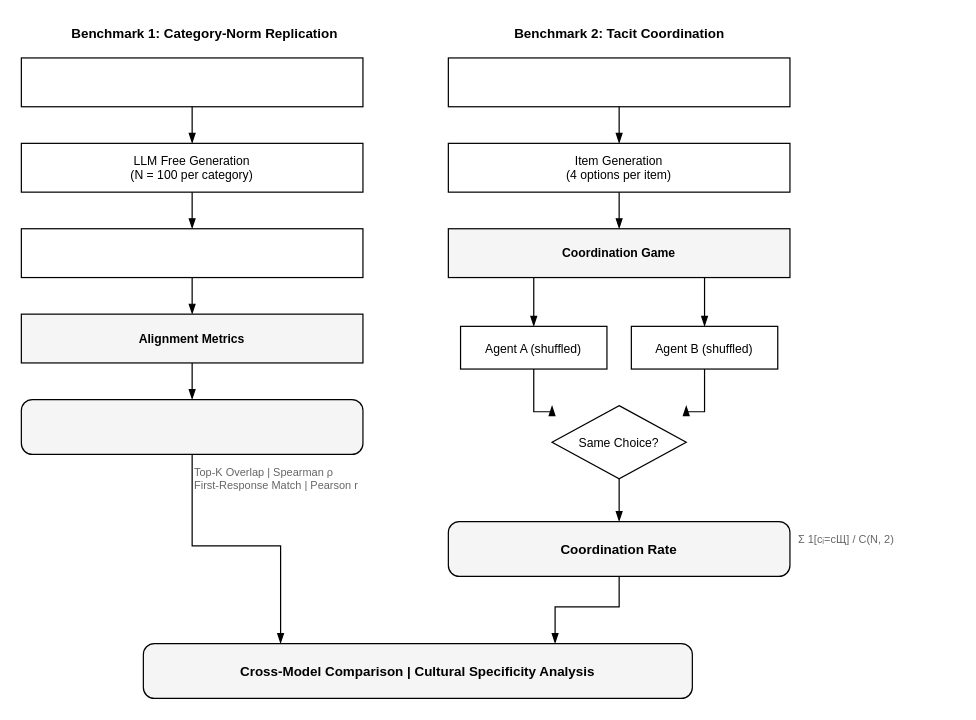
This 976x720 diagram has some shape labels left out. Each missing label, with the centre of its shape:
"31 Domains × 8 Categories" belongs at pixel 618 82.
"70 Category Labels (Castro et al., 2021)" belongs at pixel 191 82.
"Exemplar Frequency Distribution" belongs at pixel 191 253.
"Model–Human Alignment Score" belongs at pixel 191 426.
